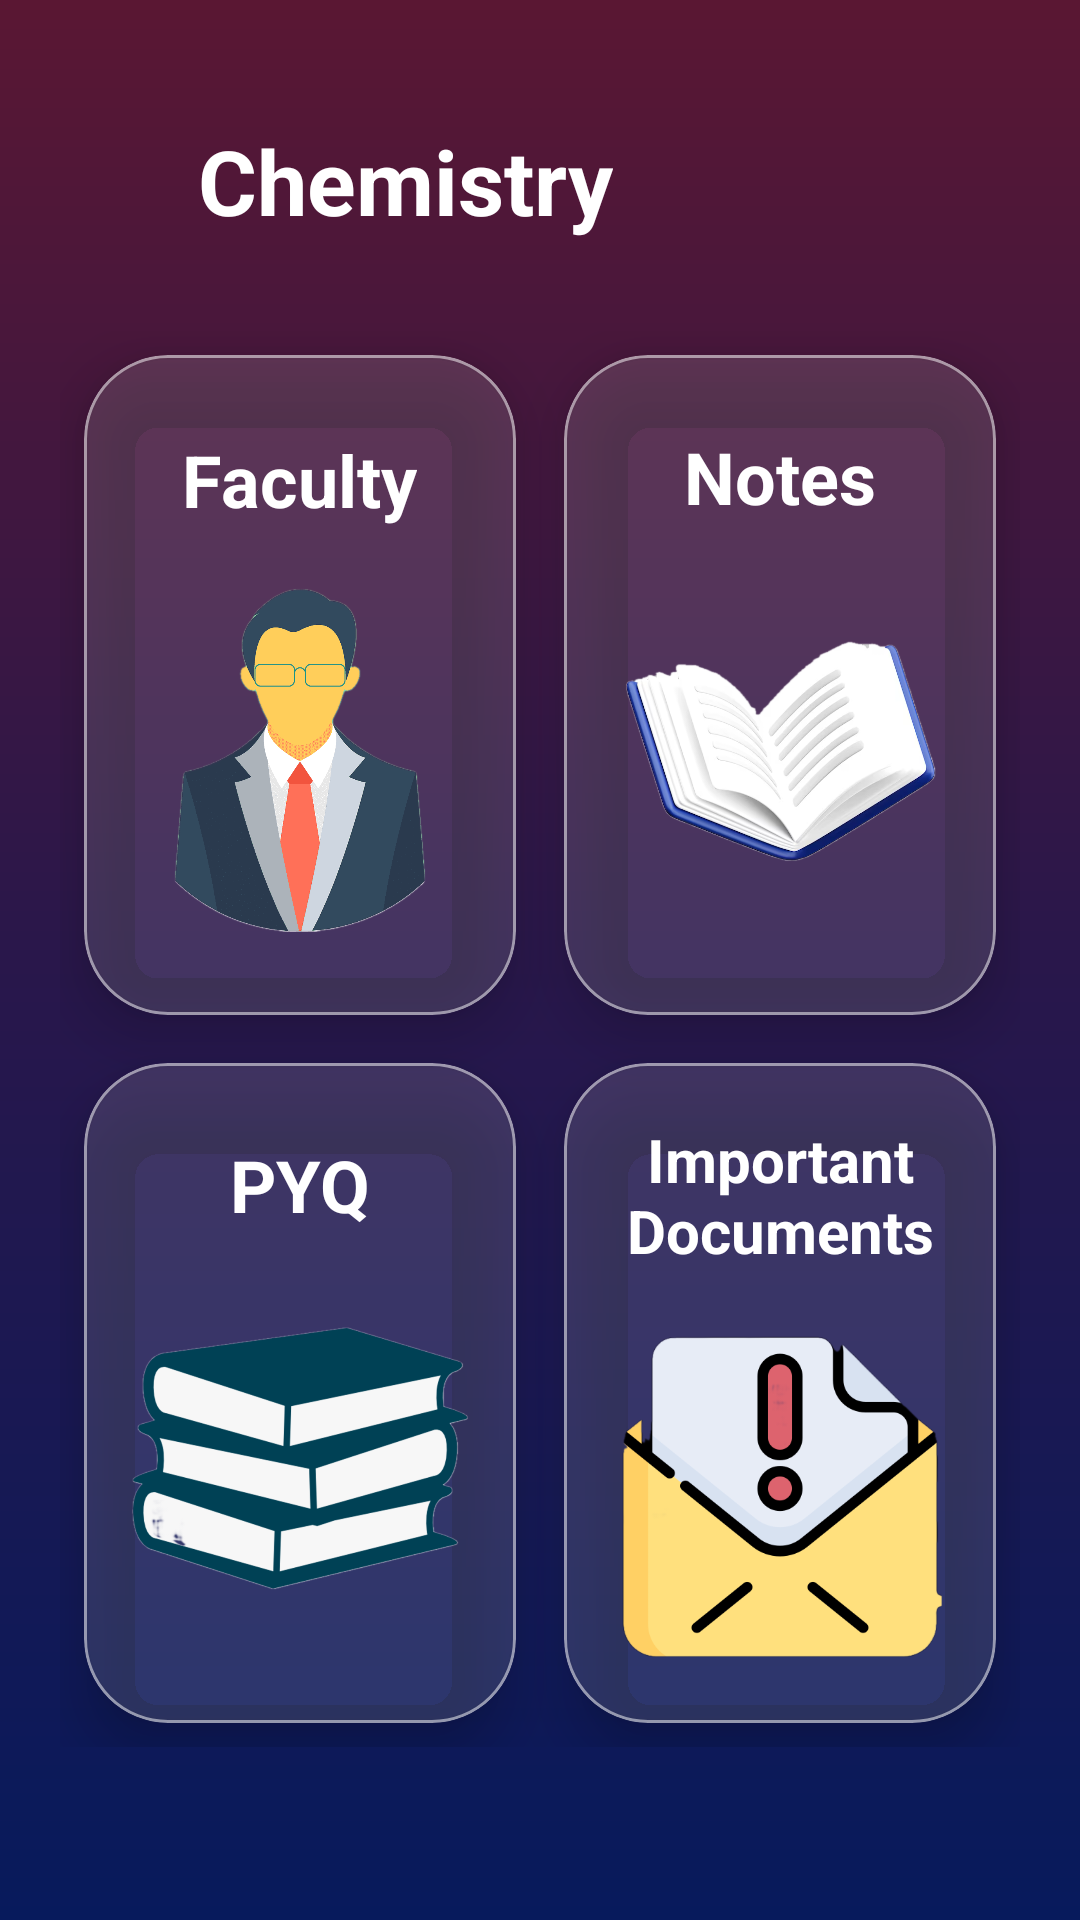

Named icons in this screenshot (1080px×1920px) and their bounding boxes, (x1, y1, x2, y2):
notice: (623, 1337, 942, 1657)
